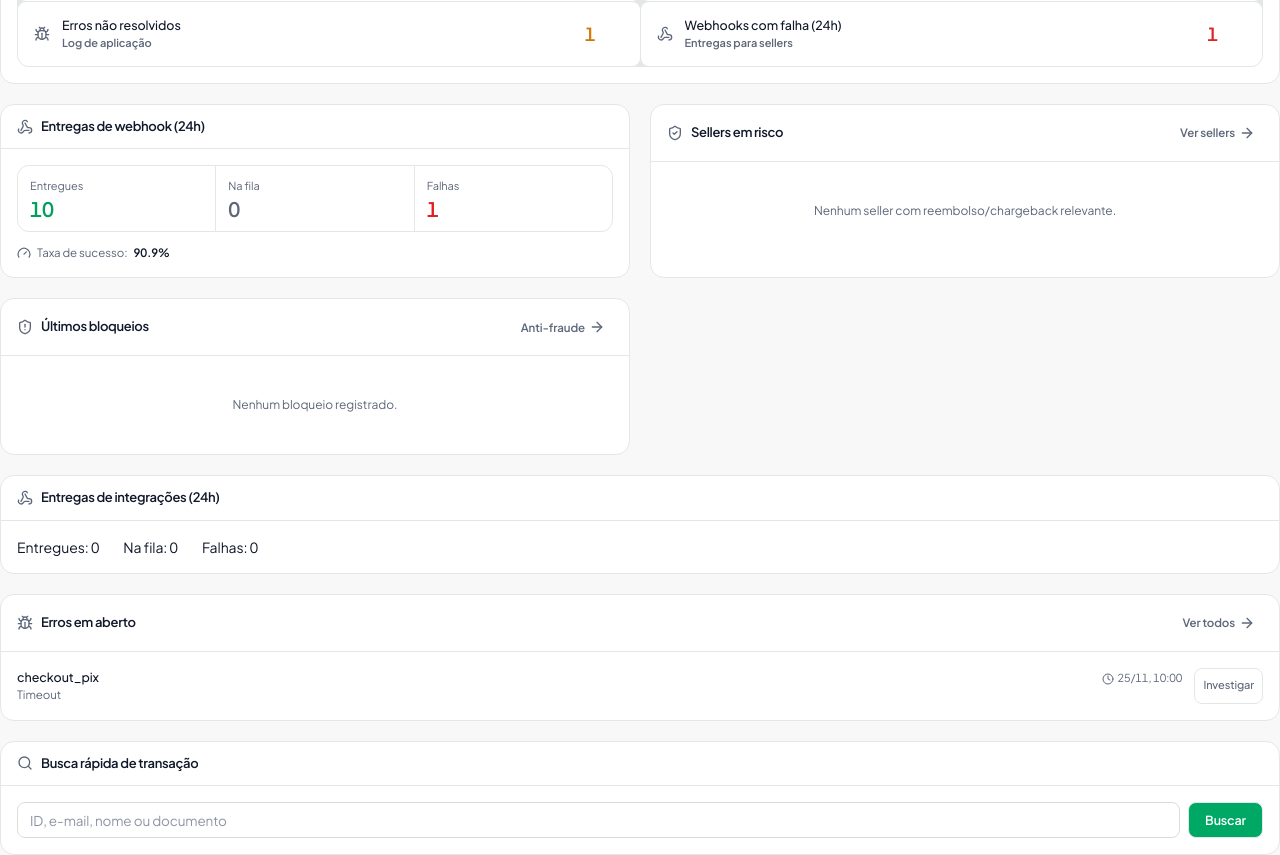
Test case: AdminCommandCenterTab › resultado da busca mostra o status em português
(page scrolled)
Expected: the heading "Busca rápida de transação" is shown, [41,754,198,773]
Type "ana" into the field named "Buscar transação" at [599, 820], box [17,802,1180,838]
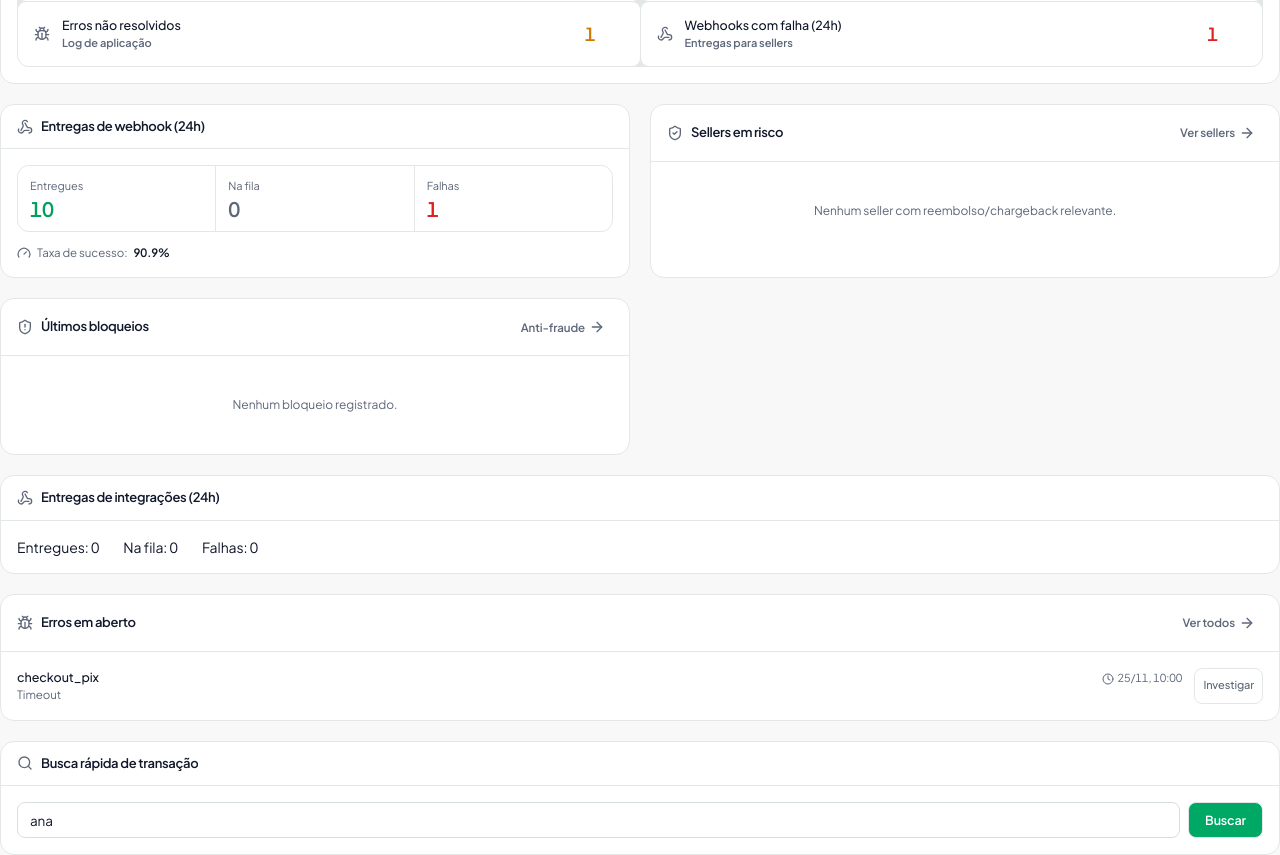
Click the button "Buscar" at [1226, 820], box [1188,802,1263,838]
(page scrolled)
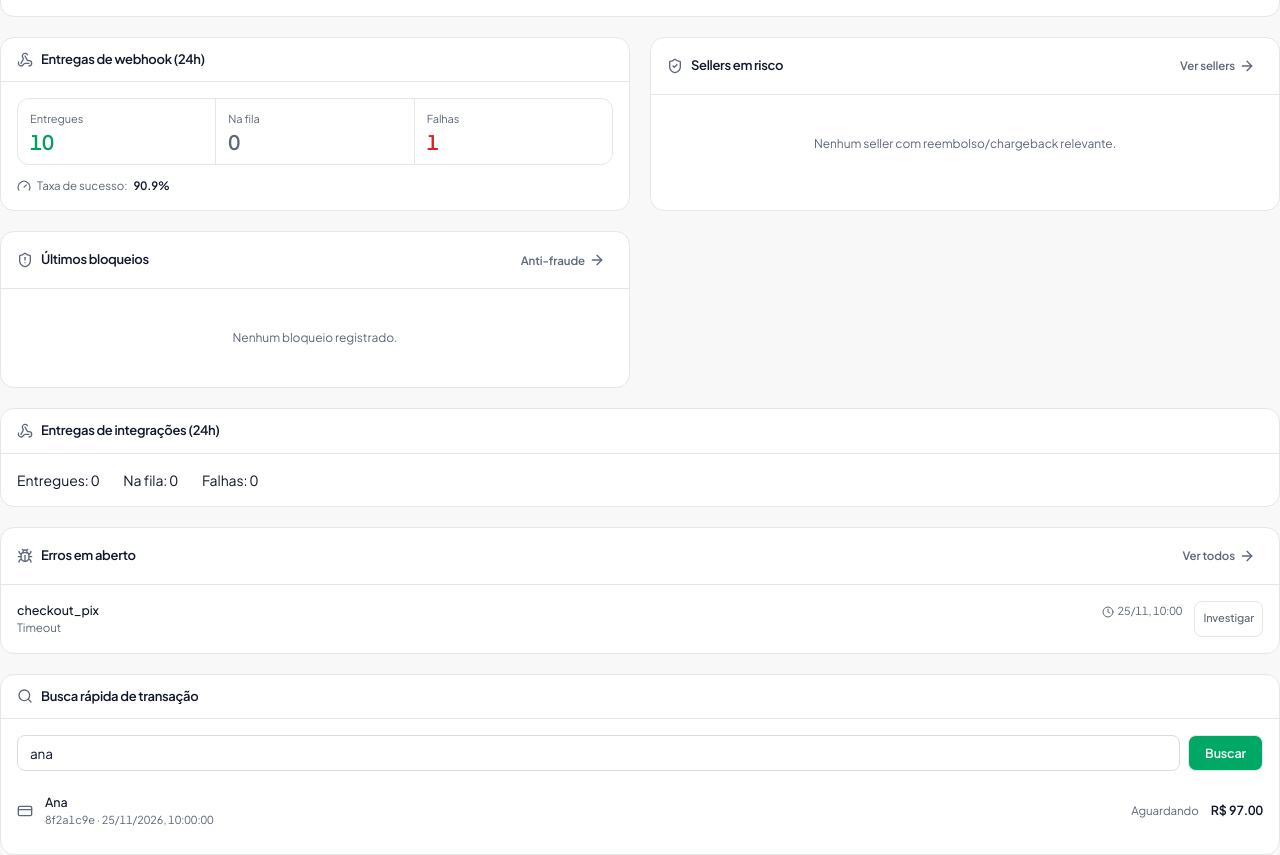
Expected: the text "Aguardando" is shown, [1131,802,1199,820]
